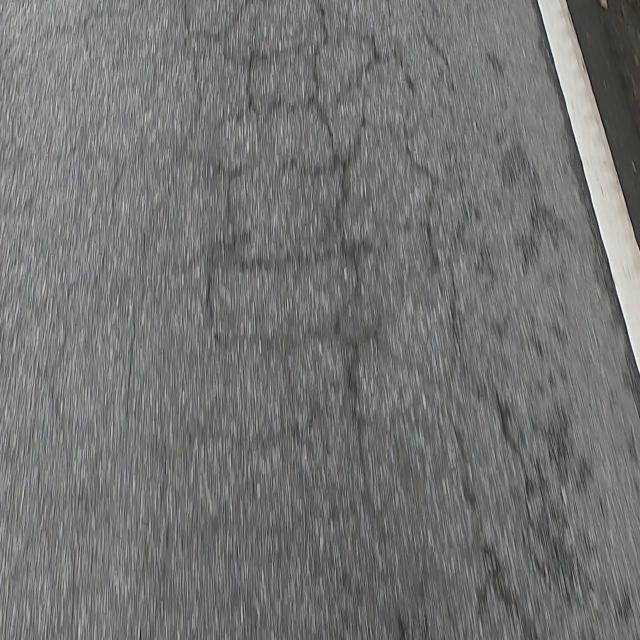Retak-Buaya: (185, 0, 537, 609)
